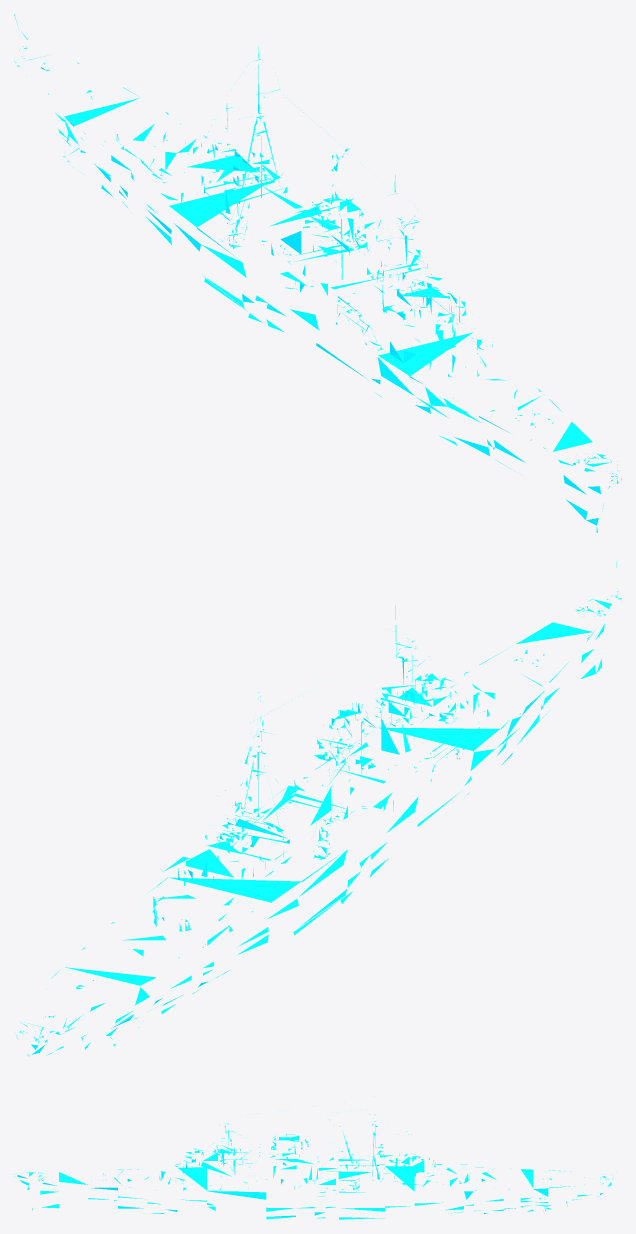
File: Colorful_Roon.glb
3 views of the same model, one above another, from view 1: azimuth 30°, elevation 25°; view 2: azimuth 150°, elevation 25°; view 3: azimuth 270°, elevation 25° (orthographic). The views are drawn at different scales.
Bounding box in the file's own units: 1.73 × 3.29 × 15.
